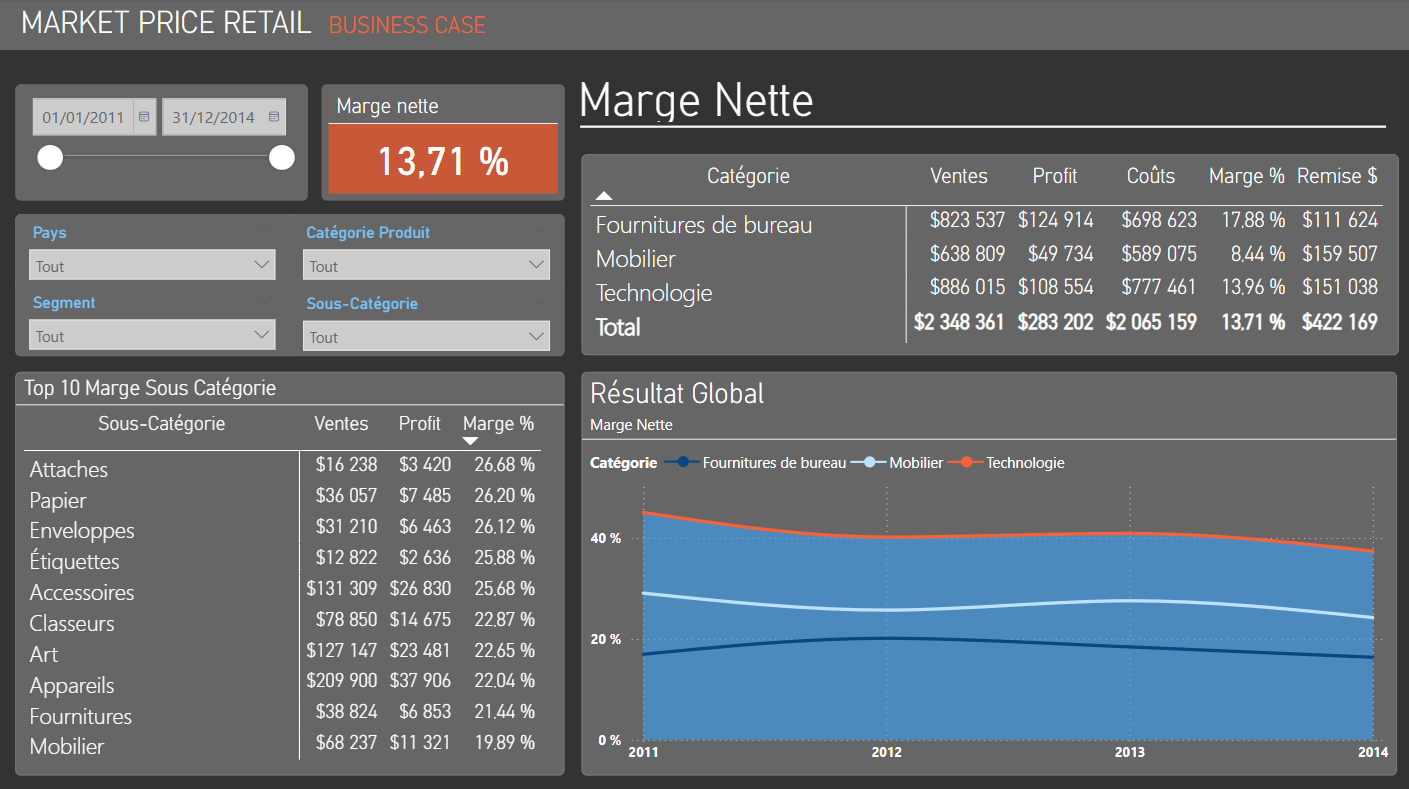

What the dashboard file says about the page in this screenshot:
{"tool":"powerbi","page":{"name":"Marge Nette","canvas":[1280,720],"ordinal":1},"visuals":[{"type":"shape","box":[0,0,1280,47.5],"z":0},{"type":"shape","box":[14.8,195.7,498.4,129],"z":0,"group":"g1"},{"type":"shape","box":[527.5,102.1,734.2,39.7],"z":1000},{"type":"textbox","box":[14.5,0,456,47.7],"z":2000},{"type":"textbox","title":"Marge Nette","box":[520.3,66.1,264.4,56.5],"z":3000},{"type":"slicer","fields":{"Values":["Market_retail_nettoye.Pays"]},"box":[14.8,195.7,248.7,64],"z":3000,"group":"g1"},{"type":"stackedAreaChart","title":"Résultat Global","fields":{"Category":["Date.NomMois"],"Series":["Market_retail_nettoye.Catégorie"],"Y":["Market_retail_nettoye.Rentabilité %"]},"box":[528.4,339.6,740,366.3],"z":4000},{"type":"pivotTable","title":"Résultat Global","fields":{"Values":["Sum(Market_retail_nettoye.CA TTC)","Sum(Market_retail_nettoye.Profit)","Market_retail_nettoye.Coûts","Market_retail_nettoye.Rentabilité %","Sum(Market_retail_nettoye.Remise $)"],"Rows":["Market_retail_nettoye.Catégorie"]},"box":[528.4,142.3,741.4,182.4],"z":5000},{"type":"slicer","fields":{"Values":["Date.Date"]},"box":[14.8,78.6,265.4,105.3],"z":6000},{"type":"slicer","fields":{"Values":["Market_retail_nettoye.Segment"]},"box":[14.8,259.7,248.7,65],"z":6000,"group":"g1"},{"type":"group","id":"g1","title":"Groupe 1","box":[14.8,195.7,498.2,129],"z":7000},{"type":"slicer","fields":{"Values":["Market_retail_nettoye.Catégorie"]},"box":[263.5,195.7,249.7,64],"z":7000,"group":"g1"},{"type":"slicer","fields":{"Values":["Market_retail_nettoye.Sous-Catégorie"]},"box":[263.5,260.7,249.7,64],"z":8000,"group":"g1"},{"type":"pivotTable","title":"Top 10 Marge Sous Catégorie","fields":{"Values":["Sum(Market_retail_nettoye.CA TTC)","Sum(Market_retail_nettoye.Profit)","Market_retail_nettoye.Rentabilité %"],"Rows":["Market_retail_nettoye.Sous-Catégorie"]},"box":[14.8,339.6,498.2,366.3],"z":8000},{"type":"card","title":"Marge nette","fields":{"Values":["Market_retail_nettoye.Rentabilité %"]},"box":[292.1,78.6,220.9,105.3],"z":9000}]}

Visuals, with their boxes in screenshot pixels (x1, y1, x2, y2), scaled from the page's 1280x720 canvas onto the 1409x789 screenshot:
shape: [x1=0, y1=0, x2=1408, y2=52]
shape: [x1=16, y1=214, x2=565, y2=356]
shape: [x1=581, y1=112, x2=1389, y2=155]
textbox: [x1=16, y1=0, x2=518, y2=52]
"Marge Nette" textbox: [x1=573, y1=72, x2=864, y2=134]
slicer - Market_retail_nettoye.Pays: [x1=16, y1=214, x2=290, y2=285]
"Résultat Global" stackedAreaChart: [x1=582, y1=372, x2=1396, y2=774]
"Résultat Global" pivotTable: [x1=582, y1=156, x2=1398, y2=356]
slicer - Date.Date: [x1=16, y1=86, x2=308, y2=202]
slicer - Market_retail_nettoye.Segment: [x1=16, y1=285, x2=290, y2=356]
"Groupe 1" group: [x1=16, y1=214, x2=565, y2=356]
slicer - Market_retail_nettoye.Catégorie: [x1=290, y1=214, x2=565, y2=285]
slicer - Market_retail_nettoye.Sous-Catégorie: [x1=290, y1=286, x2=565, y2=356]
"Top 10 Marge Sous Catégorie" pivotTable: [x1=16, y1=372, x2=565, y2=774]
"Marge nette" card: [x1=322, y1=86, x2=565, y2=202]
